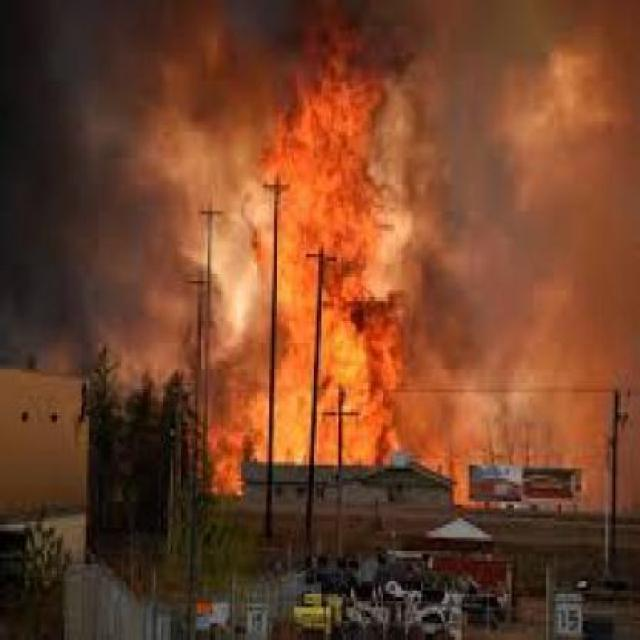Fire: (199, 15, 412, 502)
Smoke: (395, 16, 640, 405), (0, 0, 219, 368)
